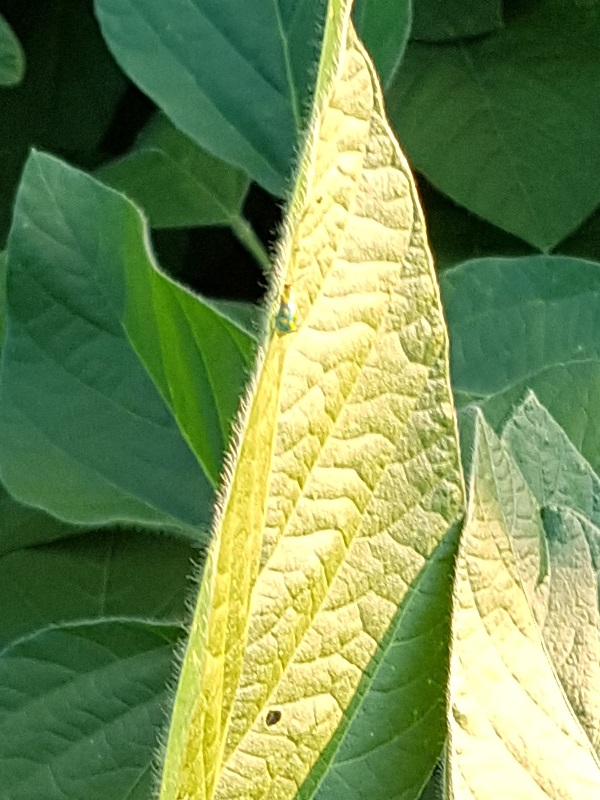Diabrotica_speciosa: (260, 271, 311, 345)
